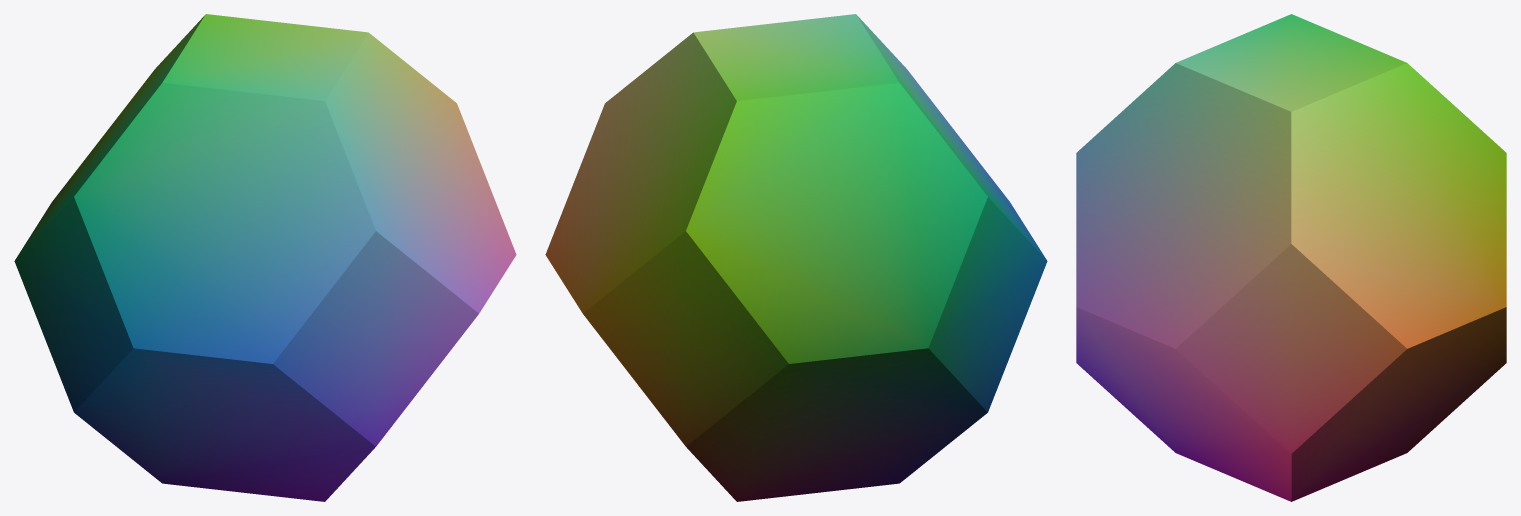
The model's file is zeometry-polyhedra-truncated-octahedron_v1.glb.
3 renders of one model, left to right at view 1: azimuth 30°, elevation 25°; view 2: azimuth 150°, elevation 25°; view 3: azimuth 270°, elevation 25°, orthographic. The views are drawn at different scales.
Visible parts, largest first — view 1: Truncated Octahedron; view 2: Truncated Octahedron; view 3: Truncated Octahedron.
Boxes of the visible parts, x1,y1,x2,y2 form: Truncated Octahedron: [14, 14, 516, 501]; Truncated Octahedron: [545, 14, 1047, 501]; Truncated Octahedron: [1076, 14, 1506, 501].
Size of the model in its own units: 0.5 by 0.5 by 0.5.
